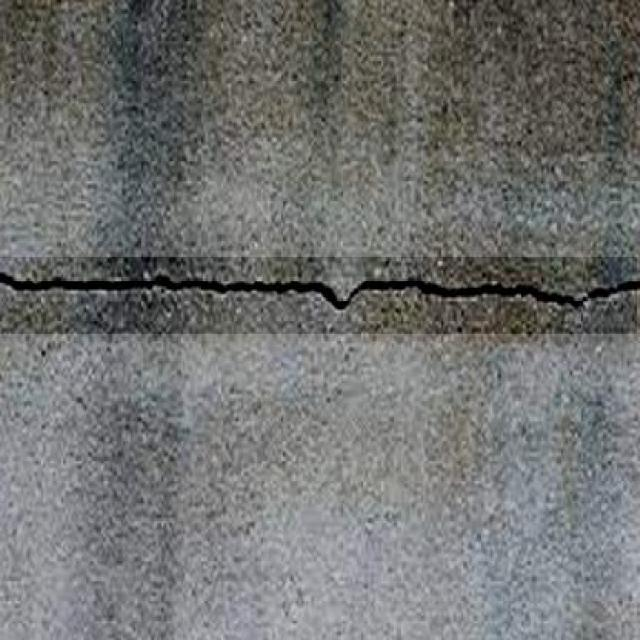Crack: (2, 247, 640, 333)
